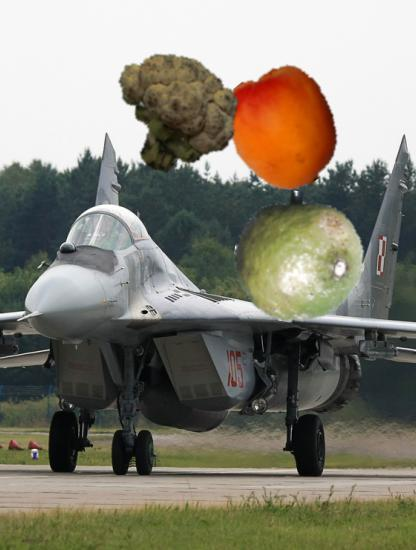Apricot: (223, 65, 347, 189)
Cauliflower: (109, 44, 240, 175)
Limes: (234, 192, 366, 324)
